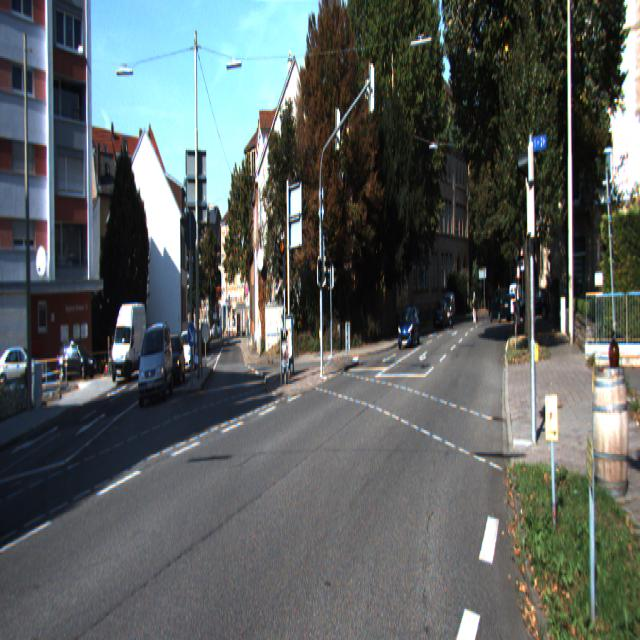Car: (138, 318, 174, 407), (111, 300, 148, 383), (0, 349, 45, 398), (397, 303, 421, 349), (448, 294, 455, 328)
